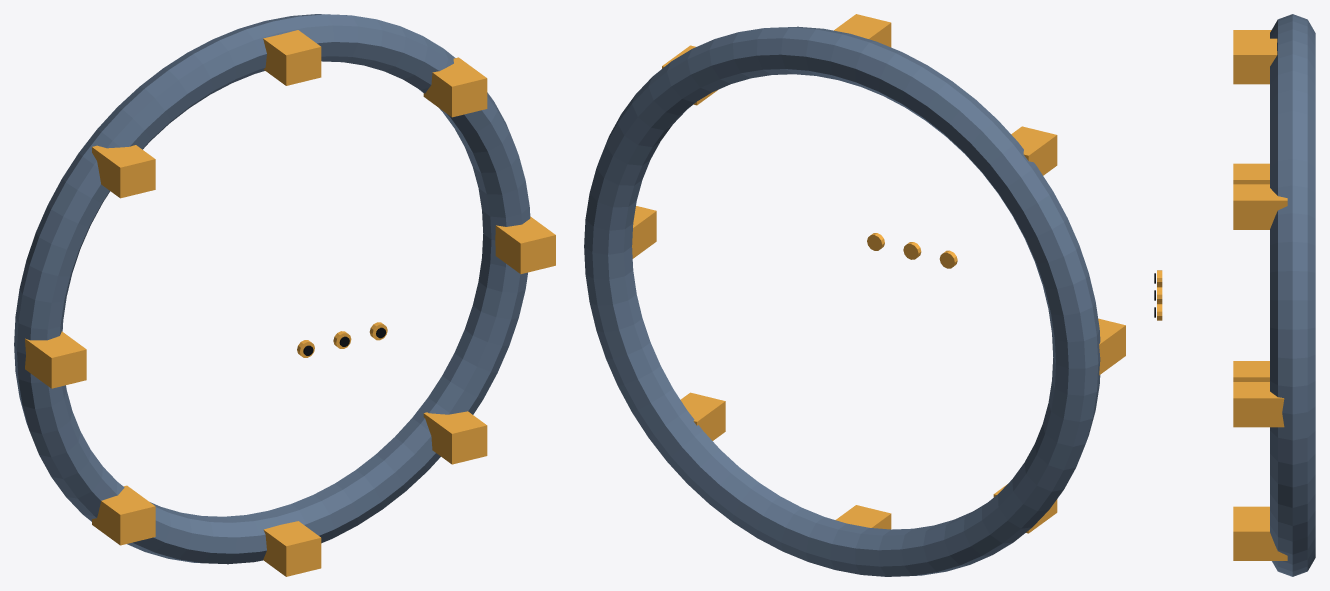
The model's file is 10_L90_SpacecraftDockingReleaseFixture.fbx.
3 renders of one model, left to right at view 1: azimuth 30°, elevation 25°; view 2: azimuth 150°, elevation 25°; view 3: azimuth 270°, elevation 25°, orthographic. The views are drawn at different scales.
Visible parts, largest first — view 1: L90_SpacecraftDockingReleaseFixture, L90_SpacecraftDockingReleaseFixture_Part_0001; view 2: L90_SpacecraftDockingReleaseFixture, L90_SpacecraftDockingReleaseFixture_Part_0001; view 3: L90_SpacecraftDockingReleaseFixture, L90_SpacecraftDockingReleaseFixture_Part_0001.
Boxes of the visible parts, x1,y1,x2,y2 form: L90_SpacecraftDockingReleaseFixture: (14, 14, 530, 564); L90_SpacecraftDockingReleaseFixture_Part_0001: (25, 30, 555, 576); L90_SpacecraftDockingReleaseFixture: (584, 26, 1100, 576); L90_SpacecraftDockingReleaseFixture_Part_0001: (632, 14, 1125, 533); L90_SpacecraftDockingReleaseFixture: (1270, 14, 1315, 576); L90_SpacecraftDockingReleaseFixture_Part_0001: (1233, 30, 1287, 560).
Bounding box in the file's own units: 436 × 436 × 125.
